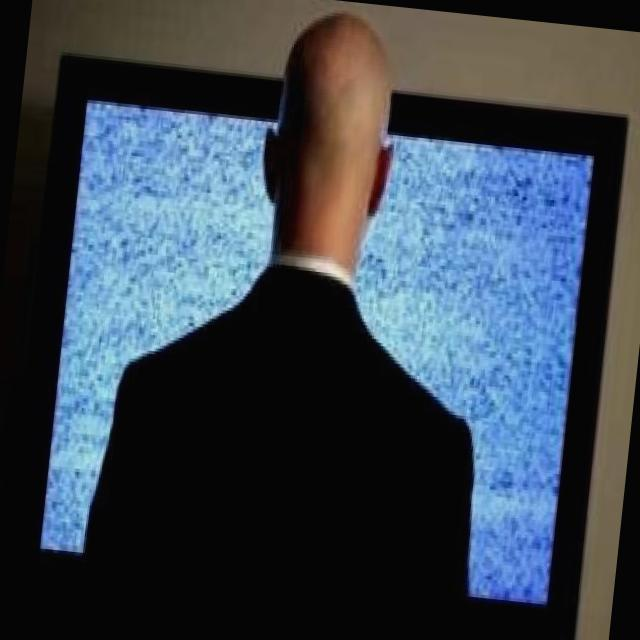no_vest: (70, 235, 514, 633)
